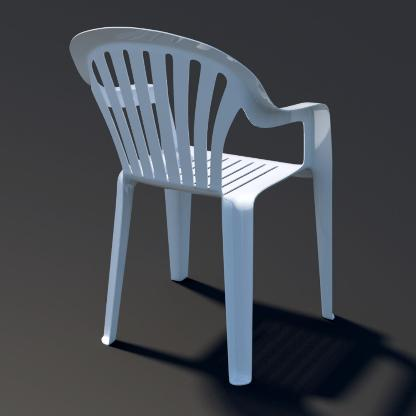chair: (59, 20, 358, 391)
